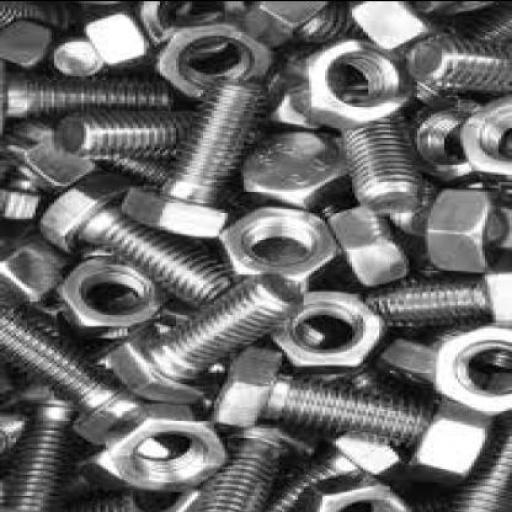metal: (33, 174, 230, 310), (108, 273, 300, 406), (120, 79, 268, 239), (208, 350, 428, 449), (0, 305, 142, 447), (0, 383, 90, 511), (406, 2, 510, 110), (284, 41, 409, 129), (103, 404, 228, 490), (262, 291, 390, 374), (54, 108, 257, 159), (192, 427, 313, 511), (363, 267, 510, 331), (214, 206, 339, 281), (52, 256, 162, 341), (152, 24, 274, 98), (407, 96, 495, 188), (239, 133, 354, 202), (430, 324, 510, 420), (404, 396, 487, 485), (423, 190, 509, 275), (0, 122, 101, 194), (0, 79, 169, 122), (325, 206, 406, 289), (442, 414, 511, 510), (406, 36, 510, 93), (456, 93, 510, 186), (133, 2, 246, 46), (300, 471, 418, 511), (347, 2, 442, 50), (0, 238, 60, 306), (82, 14, 152, 72), (0, 20, 65, 69), (293, 2, 363, 42), (46, 38, 108, 79), (0, 184, 38, 222)
